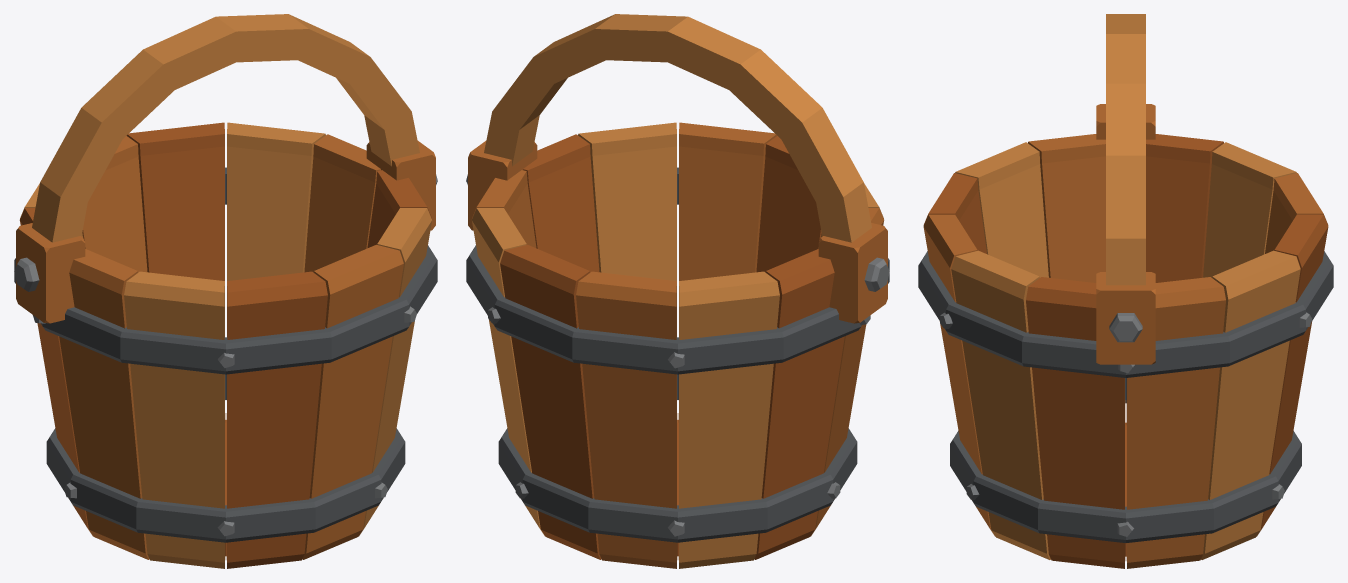
File: Wooden Bucket.glb
3 renders of one model, left to right at view 1: azimuth 30°, elevation 25°; view 2: azimuth 150°, elevation 25°; view 3: azimuth 270°, elevation 25°, orthographic.
Parts seen in each view (by area): view 1: Wooden Bucket; view 2: Wooden Bucket; view 3: Wooden Bucket.
Boxes of the visible parts, box(x1,y1,x2,y2) form: Wooden Bucket: box(14, 14, 437, 568); Wooden Bucket: box(466, 14, 889, 568); Wooden Bucket: box(918, 14, 1333, 568).
Bounding box in the file's own units: 0.42 × 0.4689 × 0.3744.
